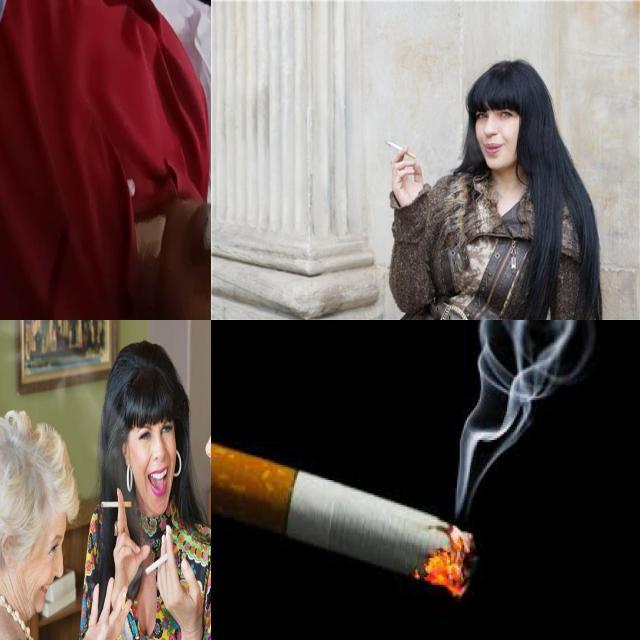smoking: (211, 436, 477, 598), (144, 545, 180, 577), (382, 136, 418, 162), (100, 500, 132, 509)
